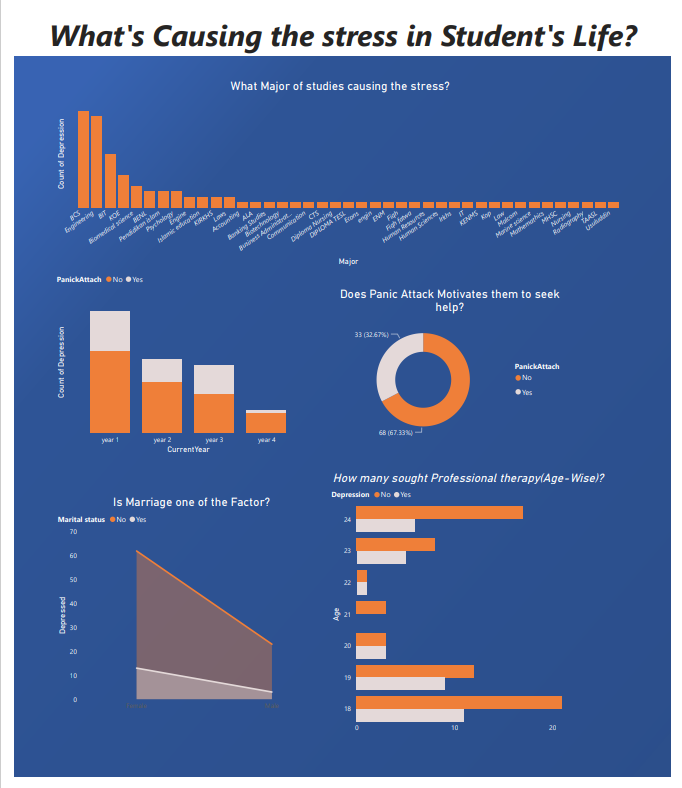

The dashboard page shown, as its layout file describes it:
{"tool":"powerbi","page":{"name":"Page 1","canvas":[1200,1400],"ordinal":0},"visuals":[{"type":"columnChart","fields":{"Category":["Student Mental health.CurrentYear"],"Y":["CountNonNull(Student Mental health.Depression)"],"Series":["Student Mental health.PanickAttach"]},"box":[72.5,470,470,345],"z":0},{"type":"areaChart","title":"Is Marriage one of the Factor?","fields":{"Category":["Student Mental health.Gender"],"Y":["CountNonNull(Student Mental health.Depression)"],"Series":["Student Mental health.Marital status"]},"box":[75,885,500,402.5],"z":1000},{"type":"clusteredBarChart","title":"How many sought Professional therapy(Age-Wise)?","fields":{"Y":["CountNonNull(Student Mental health.Did you seek any specialist for a treatment?)"],"Series":["Student Mental health.Depression"],"Category":["Student Mental health.Age"]},"box":[575,840,510,487.5],"z":2000},{"type":"columnChart","title":"What Major of studies causing the stress?","fields":{"Category":["Student Mental health.Major"],"Y":["CountNonNull(Student Mental health.Depression)"]},"box":[72.5,125,1047.5,345],"z":3000},{"type":"donutChart","title":"Does Panic Attack Motivates them to seek help?","fields":{"Y":["CountNonNull(Student Mental health.Did you seek any specialist for a treatment?)"],"Category":["Student Mental health.PanickAttach"]},"box":[575,505,442.5,290],"z":4000},{"type":"textbox","box":[0,0,1200.7,82.1],"z":4001}]}

Visuals, with their boxes in screenshot pixels (x1, y1, x2, y2), scaled from the page's 1200x1400 canvas onto the 682x788 screenshot:
columnChart - Student Mental health.CurrentYear x CountNonNull(Student Mental health.Depression): 41, 265, 308, 459
"Is Marriage one of the Factor?" areaChart: 43, 498, 327, 725
"How many sought Professional therapy(Age-Wise)?" clusteredBarChart: 327, 473, 617, 747
"What Major of studies causing the stress?" columnChart: 41, 70, 637, 265
"Does Panic Attack Motivates them to seek help?" donutChart: 327, 284, 578, 447
textbox: 0, 0, 681, 46
